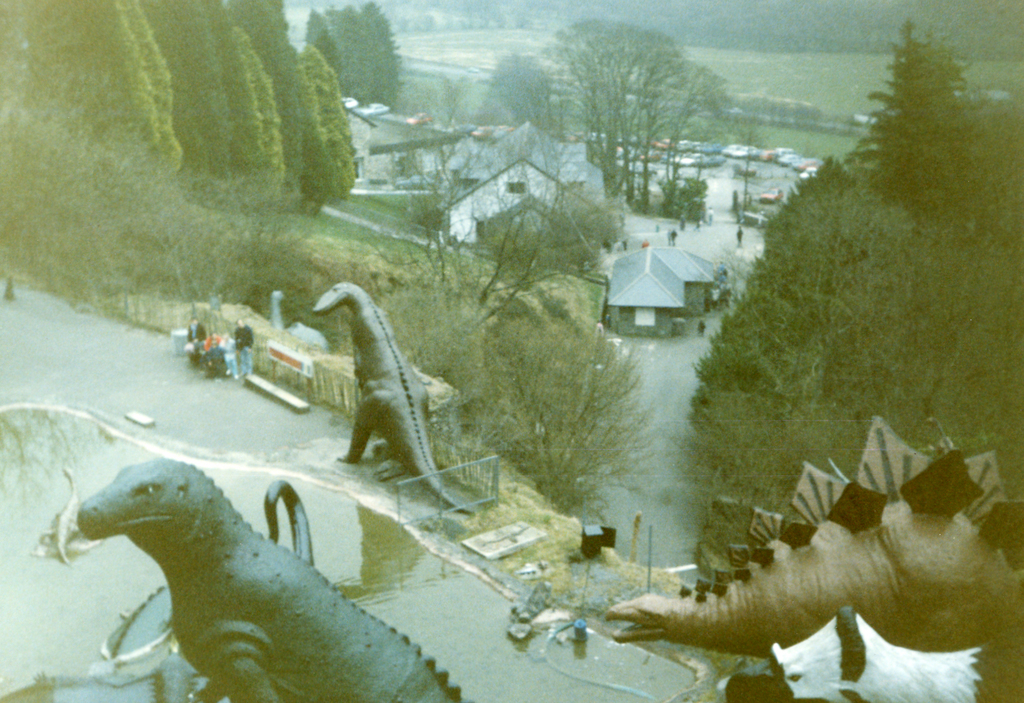Animal: (596, 416, 1022, 701), (76, 459, 486, 702), (312, 279, 482, 517), (33, 459, 94, 571), (268, 288, 335, 352)
